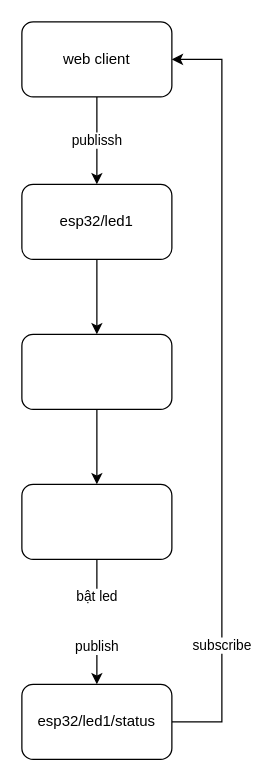
Some shapes in this 273 by 781 pixel diagram are drawn without their labels. The centre of each missing label's shape, as x and y in pixels:
esp32: (96,521)
HiveMQ: (96,371)
